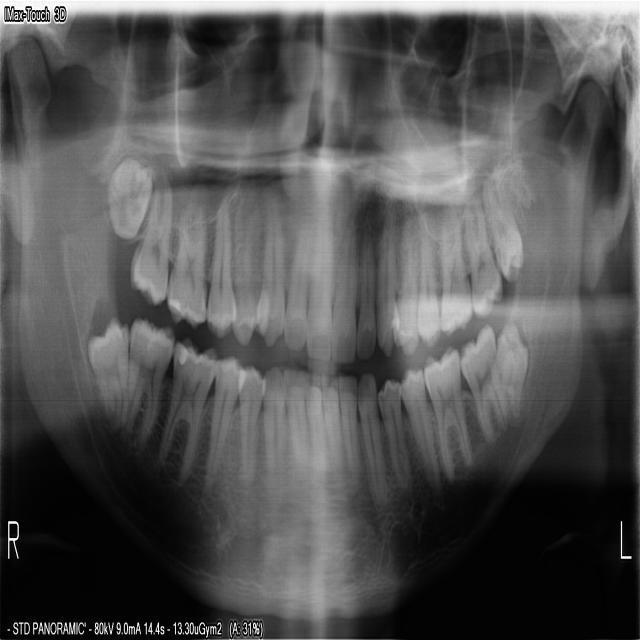LCD: (355, 372, 384, 513)
LCU: (374, 212, 396, 355)
LID: (336, 368, 359, 488), (319, 370, 344, 476)
LIU: (329, 201, 356, 363), (355, 212, 375, 361)
LMD: (421, 344, 471, 482), (457, 320, 507, 446), (495, 319, 527, 417)
LMU: (463, 185, 502, 319), (481, 177, 523, 281), (438, 201, 470, 336)
LPMD: (398, 364, 441, 495), (375, 377, 413, 493)
LPMU: (391, 212, 417, 353), (415, 208, 439, 346)
RCD: (260, 363, 285, 476)
RCU: (253, 186, 283, 345)
RID: (282, 365, 308, 482), (302, 369, 325, 476)
RIU: (303, 195, 332, 360), (280, 207, 306, 349)
RMD: (157, 335, 217, 487), (119, 316, 173, 453), (85, 315, 127, 423)
RMU: (128, 166, 170, 304), (165, 188, 206, 328), (105, 154, 151, 238)
RPMD: (202, 352, 243, 500), (236, 364, 263, 484)
RPMU: (204, 200, 236, 338), (231, 186, 255, 348)
